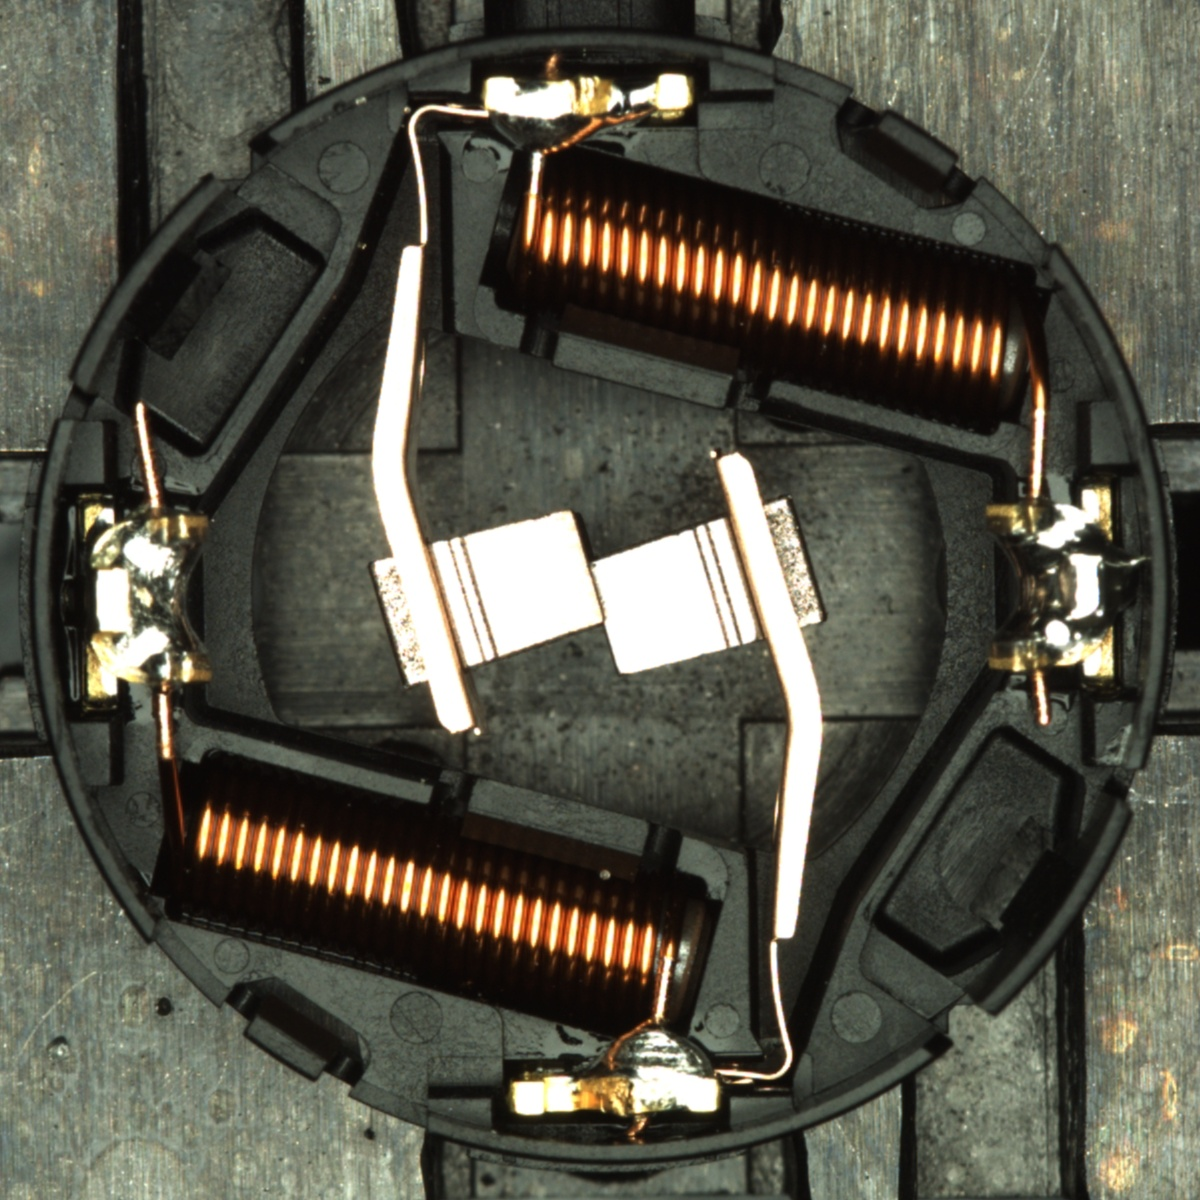1: (251, 31, 480, 255), (709, 929, 938, 1153)
2: (709, 31, 938, 255), (251, 929, 480, 1153)
3: (22, 255, 251, 480), (938, 704, 1167, 929)
4: (251, 255, 480, 480), (709, 704, 938, 929)
5: (480, 143, 709, 368), (480, 816, 709, 1041)
6: (709, 255, 938, 480), (251, 704, 480, 929)
7: (938, 255, 1167, 480), (22, 704, 251, 929)
cacbon: (395, 499, 795, 685)
chau_dien: (77, 499, 216, 698), (979, 485, 1119, 684)
tay_choi: (507, 1019, 721, 1120), (482, 67, 697, 160)
thanh_de: (952, 784, 1138, 1032), (58, 164, 243, 405)
vun_chi: (1109, 551, 1153, 618)
